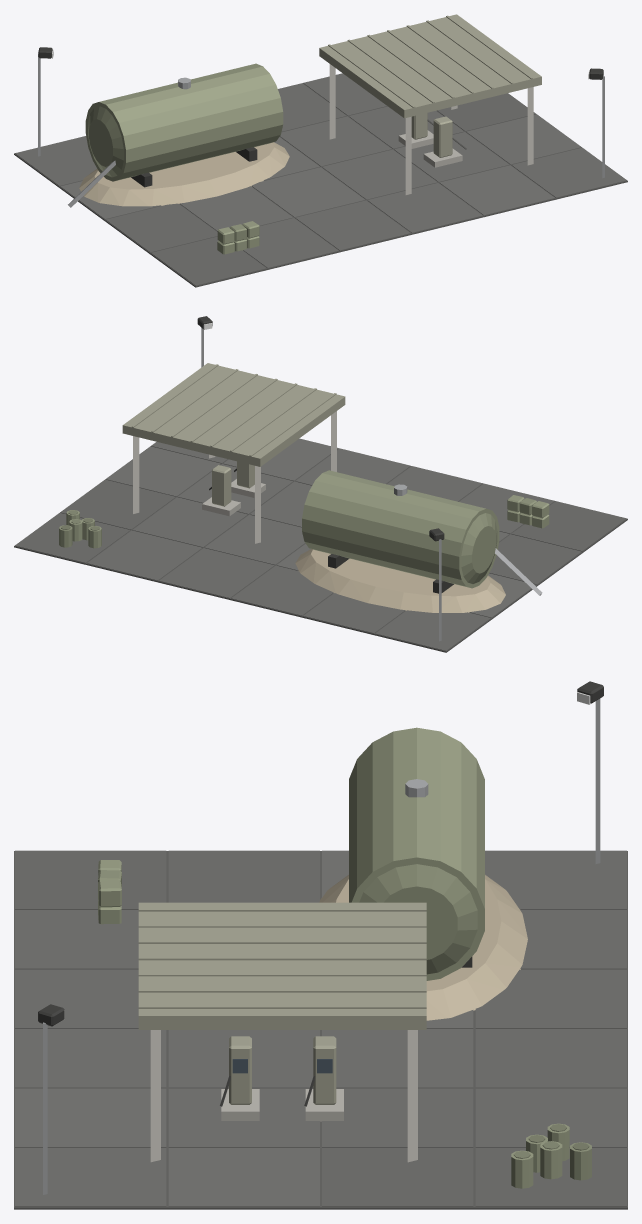
File: b_fuelst.glb
3 renders of one model, top to bottom at view 1: azimuth 30°, elevation 25°; view 2: azimuth 150°, elevation 25°; view 3: azimuth 270°, elevation 25°, orthographic. The views are drawn at different scales.
Visible parts, largest first — view 1: hull; view 2: hull; view 3: hull.
Boxes of the visible parts, x1,y1,x2,y2 form: hull: (14, 14, 627, 287); hull: (14, 316, 627, 652); hull: (14, 681, 627, 1209).
Size of the model in its own units: 23.06 by 5.28 by 16.
